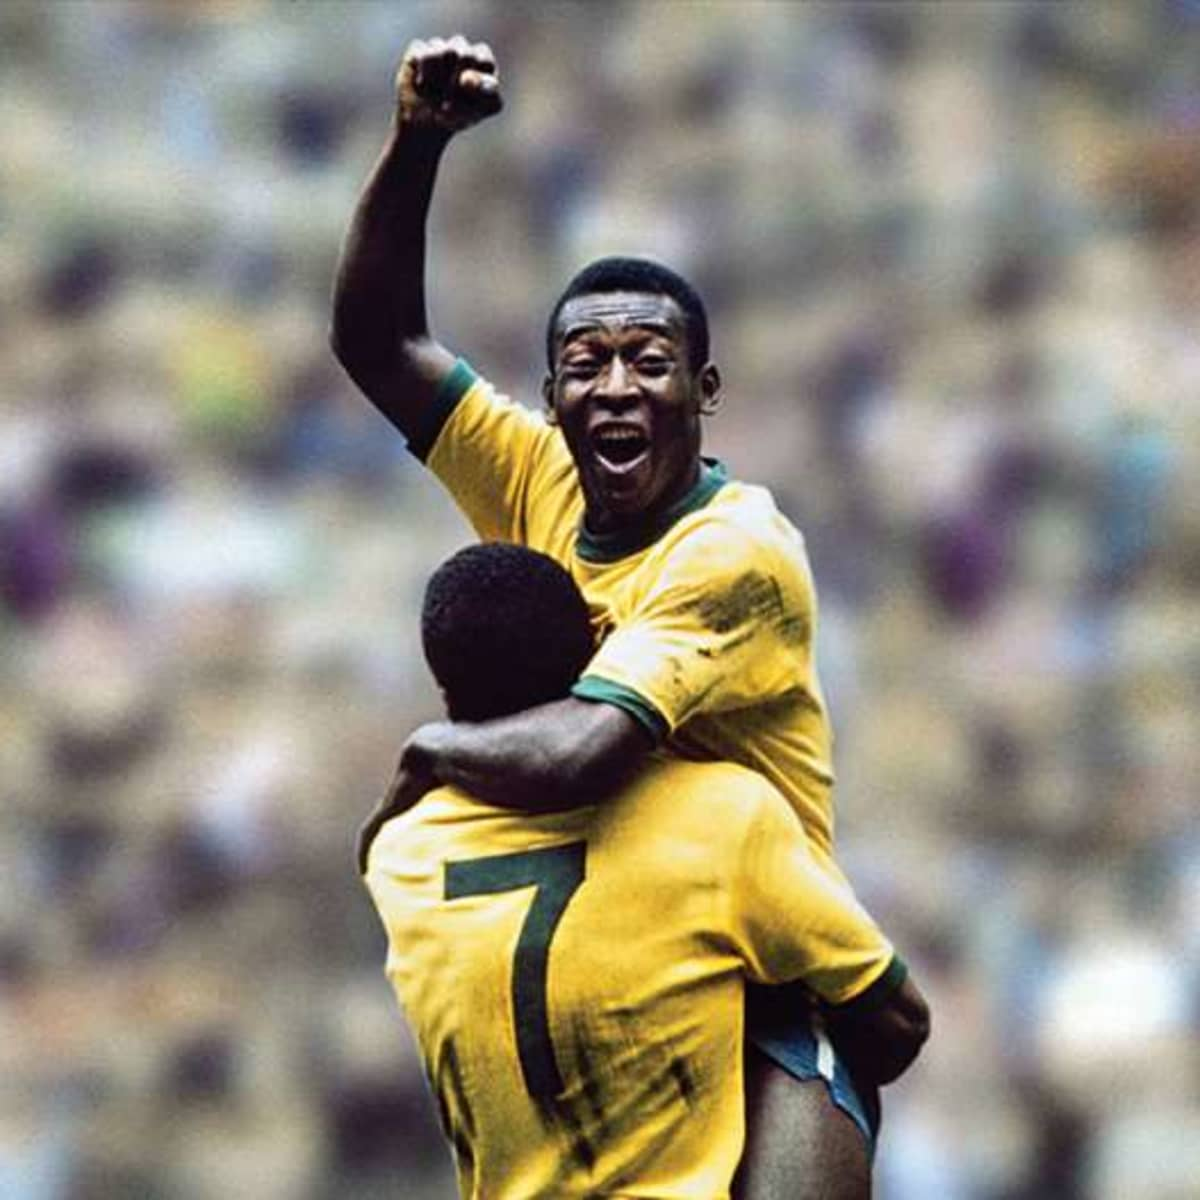NoMask: (559, 314, 683, 492)
